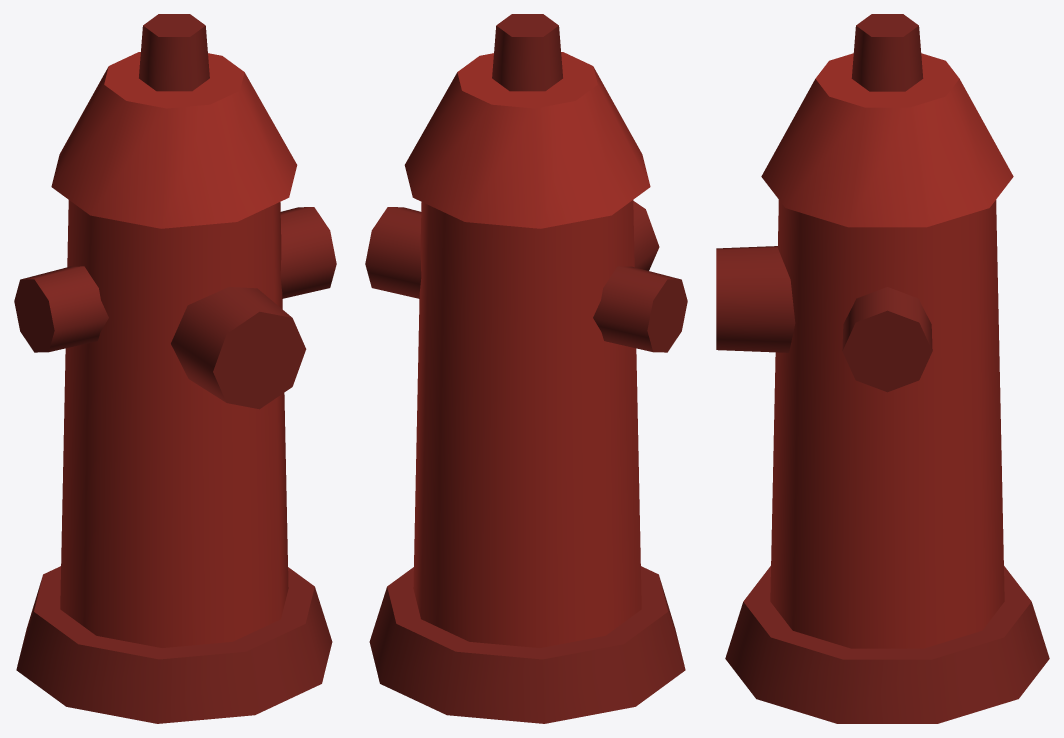
File: 1934-Street-furniture-hydrant.glb
3 renders of one model, left to right at view 1: azimuth 30°, elevation 25°; view 2: azimuth 150°, elevation 25°; view 3: azimuth 270°, elevation 25°, orthographic.
Parts seen in each view (by area): view 1: Street furniture/hydrant; view 2: Street furniture/hydrant; view 3: Street furniture/hydrant.
Boxes of the visible parts, box(x1,y1,x2,y2) form: Street furniture/hydrant: box(14, 14, 336, 723); Street furniture/hydrant: box(365, 14, 687, 723); Street furniture/hydrant: box(716, 14, 1049, 723).
Bounding box in the file's own units: 0.36 × 0.775 × 0.37.
